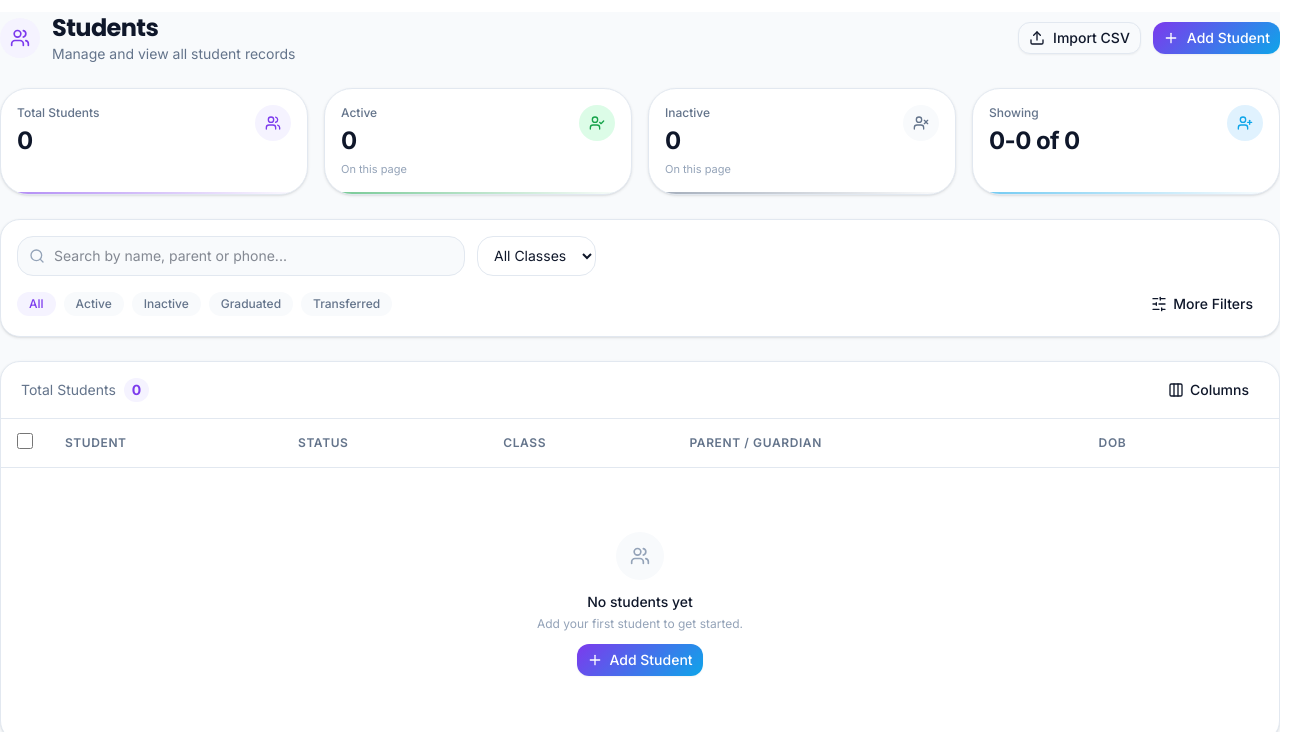
StudentsListPage › Data Table › shows empty state with "no students match" message when filters applied and no results
This screenshot has width=1292, height=732.
Type "nonexistent" into the field with placeholder "Search by name, parent or phone..." at (241, 256), box [17,236,465,276]
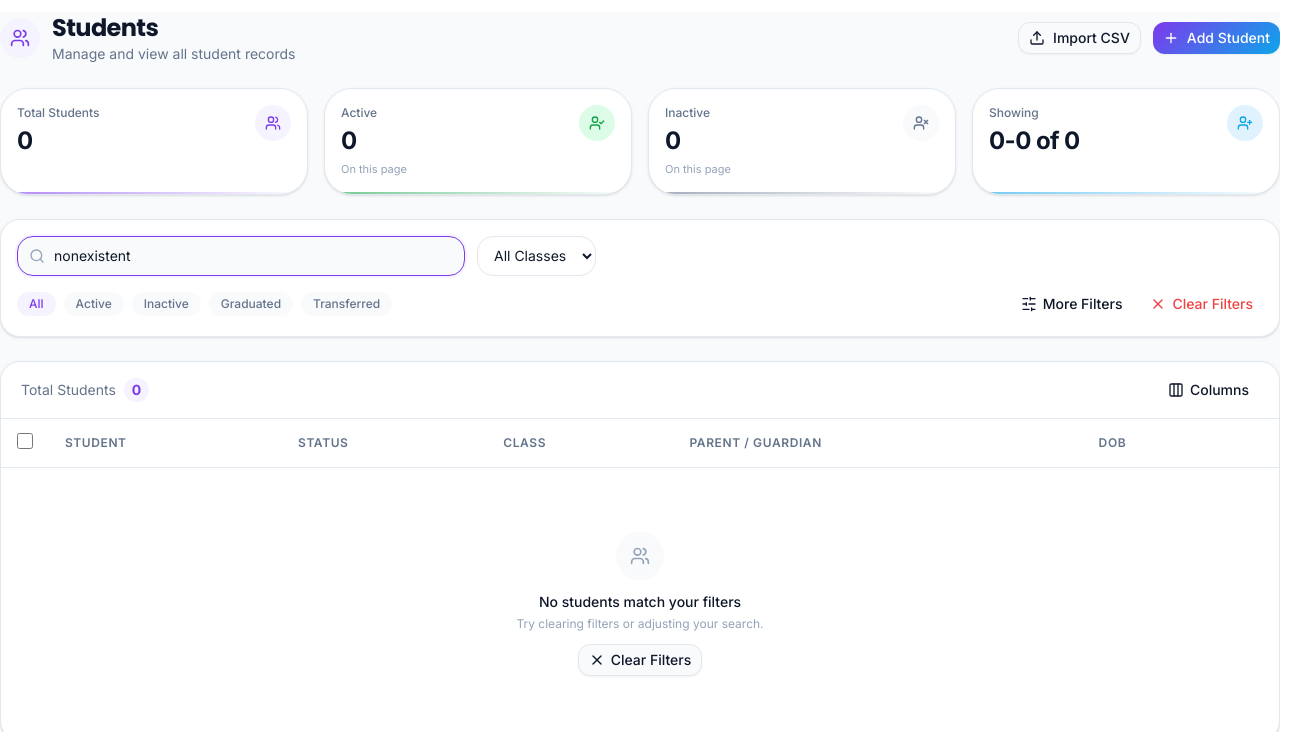
Now the text "No students match your filters" is shown, box [539,592,741,610]
